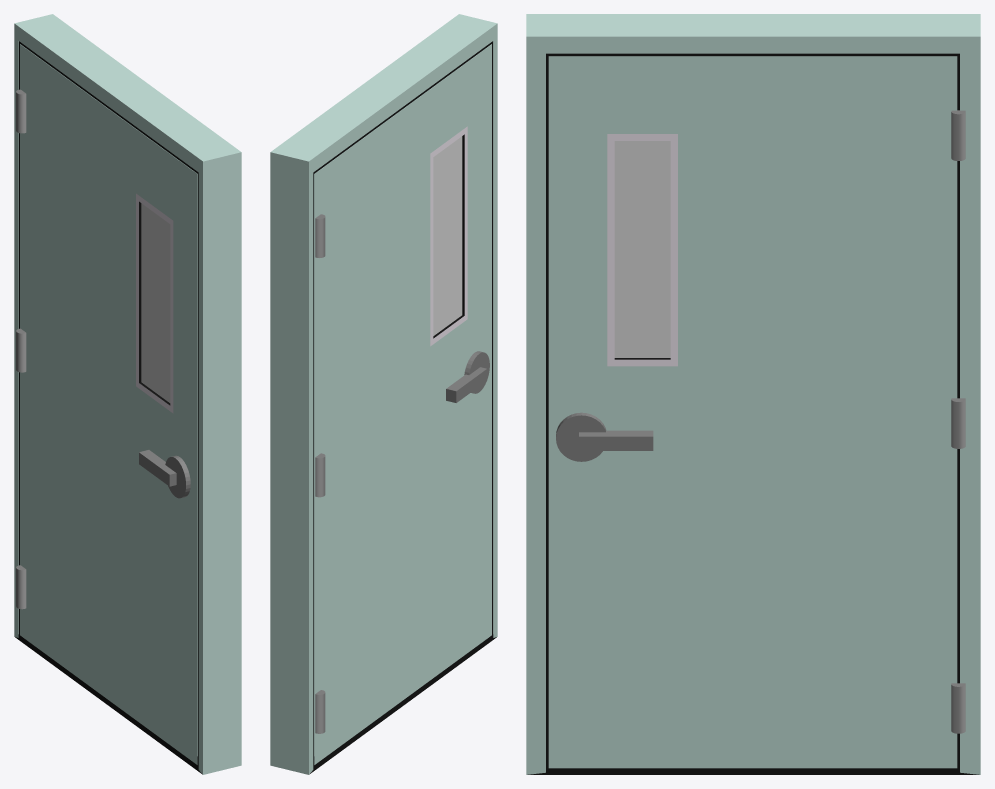
The model's file is DOORasset.fbx.
The picture shows the model from 3 angles, left to right: view 1: azimuth 30°, elevation 25°; view 2: azimuth 150°, elevation 25°; view 3: azimuth 270°, elevation 25°; orthographic projection. The views are drawn at different scales.
Parts seen in each view (by area): view 1: DOOR; view 2: DOOR; view 3: DOOR.
Boxes of the visible parts, bbox=[...] form: DOOR: bbox=[14, 14, 241, 774]; DOOR: bbox=[270, 14, 497, 774]; DOOR: bbox=[526, 14, 980, 774].
Size of the model in its own units: 98.16 by 925 by 516.
